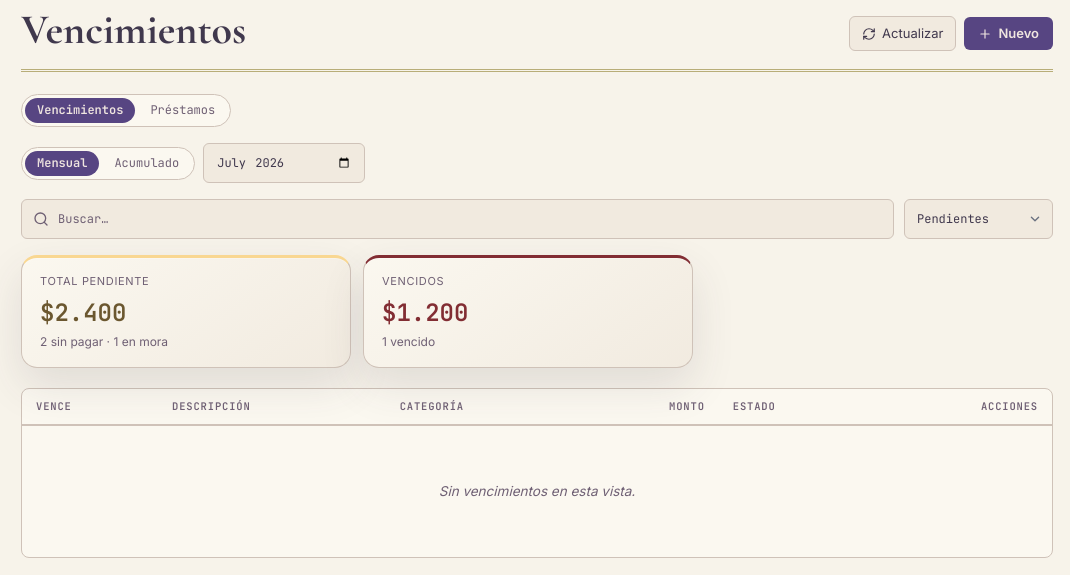
Test: ModernPendingPaymentsView document actions › renders first and second dates with amber arrears and red overdue treatments on desktop
Select "Todos los estados" in the dropdown named "filtrar vencimientos por estado": {"x": 978, "y": 219} [904,199,1053,239]
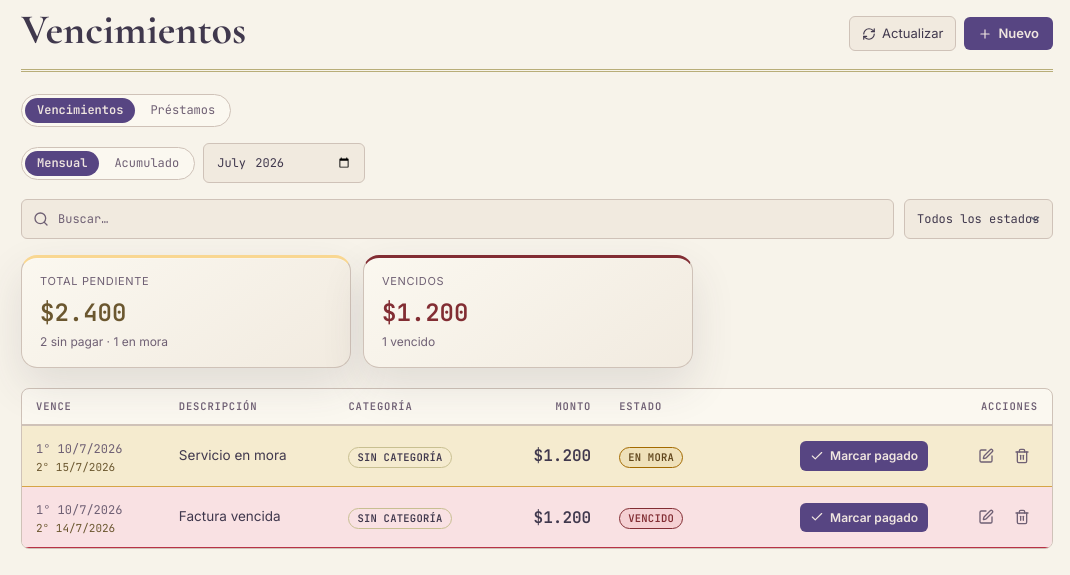
Now the text "En mora" is shown, box [619,447,683,468]
Now the text "2° 15/7/2026" is shown, box [36,460,122,476]
Now the text "Vencido" is shown, box [619,508,683,529]
